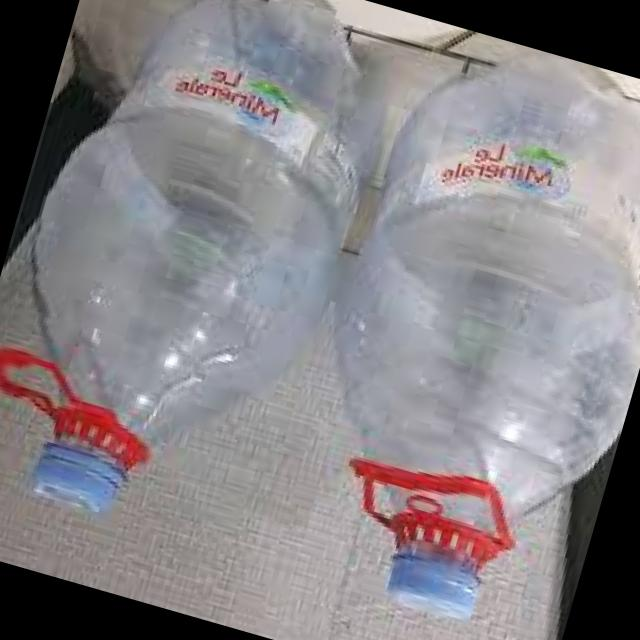Galon: (256, 17, 640, 640), (0, 0, 409, 563)
